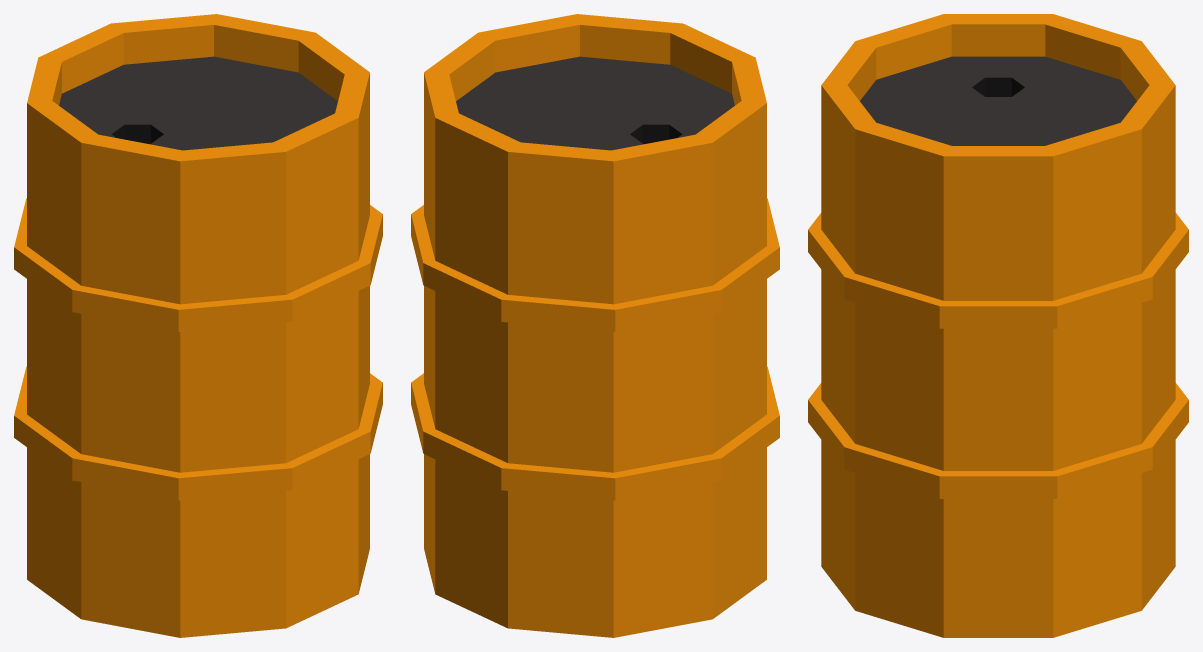
File: BarrelMetal2.fbx
The picture shows the model from 3 angles, left to right: view 1: azimuth 30°, elevation 25°; view 2: azimuth 150°, elevation 25°; view 3: azimuth 270°, elevation 25°; orthographic projection.
Visible parts, largest first — view 1: BarrelMetalYellow; view 2: BarrelMetalYellow; view 3: BarrelMetalYellow.
Boxes of the visible parts, box(x1,y1,x2,y2) form: BarrelMetalYellow: box(14, 14, 382, 637); BarrelMetalYellow: box(411, 14, 779, 637); BarrelMetalYellow: box(808, 14, 1188, 637).
Bounding box in the file's own units: 102 × 150 × 108.
